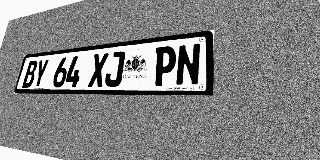4: (64, 55, 84, 87)
6: (52, 57, 70, 87)
B: (22, 60, 38, 88)
J: (104, 51, 126, 87)
N: (175, 43, 201, 86)
P: (152, 45, 177, 86)
X: (88, 53, 109, 87)
Y: (32, 59, 49, 88)
